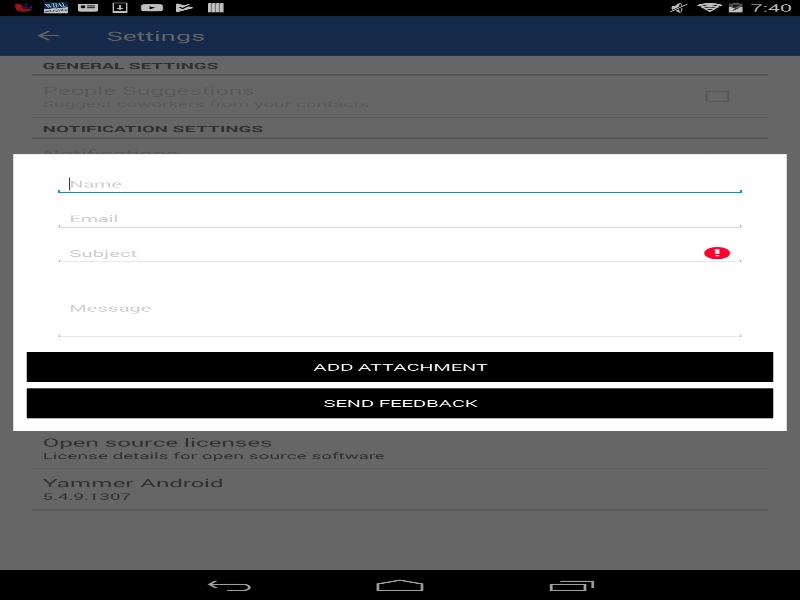Button: (26, 352, 773, 382), (26, 388, 773, 418)
Input: (53, 277, 746, 339), (53, 207, 746, 230), (53, 173, 746, 195), (53, 242, 746, 264)
